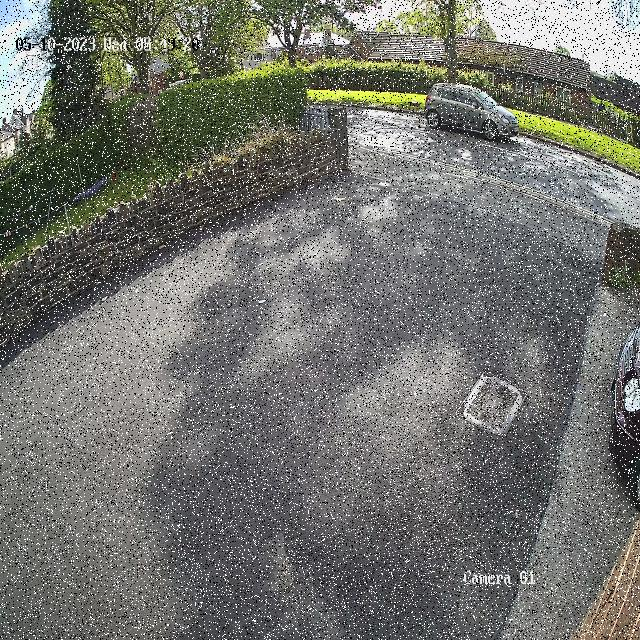vehicle: (420, 71, 521, 154)
